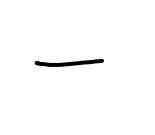minus: (35, 59, 104, 68)
